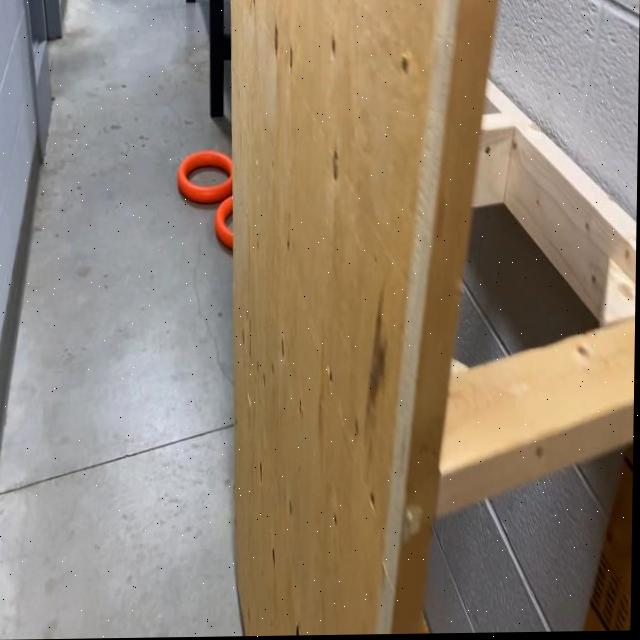note: (177, 149, 233, 208), (213, 190, 237, 253)
